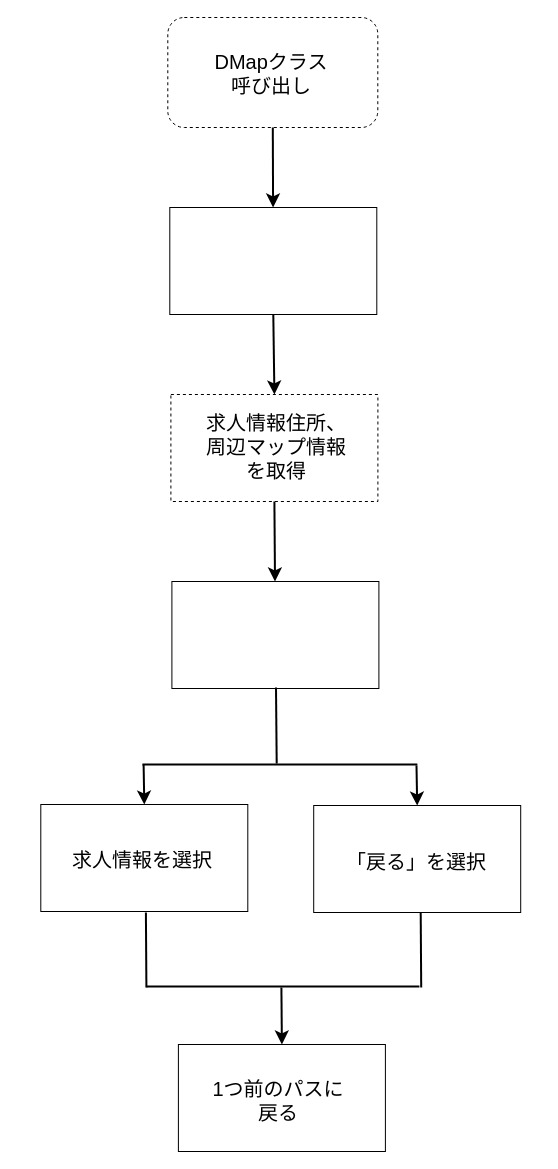
The diagram is 558 pixels wide and 1169 high, and some of its shapes have lost their labels. Each missing label, with the box of its shape:
APIと通信: (169, 206, 377, 314)
マップ画面を 表示: (171, 580, 379, 688)
